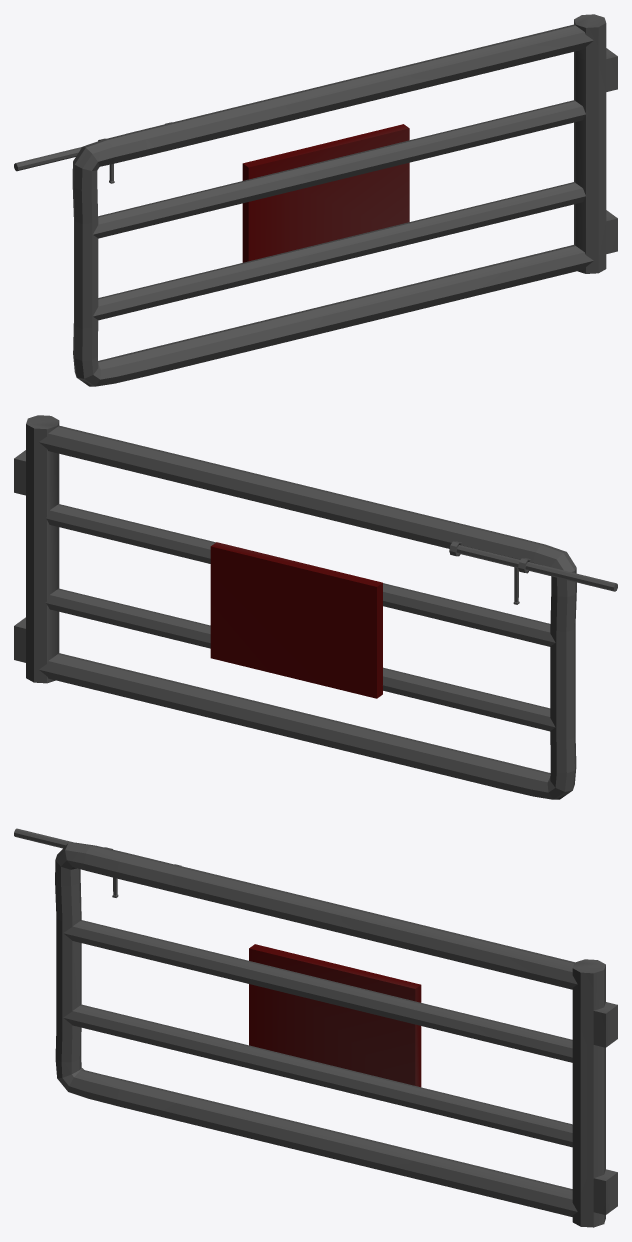
File: SM_GateOpen.fbx
The picture shows the model from 3 angles, top to bottom: view 1: azimuth 30°, elevation 25°; view 2: azimuth 150°, elevation 25°; view 3: azimuth 330°, elevation 25°; orthographic projection. The views are drawn at different scales.
Visible parts, largest first — view 1: GateOpen; view 2: GateOpen; view 3: GateOpen.
Part boxes in pixels (<box>): GateOpen: <box>14,14,617,386</box>; GateOpen: <box>14,415,617,799</box>; GateOpen: <box>14,828,617,1227</box>.
Size of the model in its own units: 193 by 77.22 by 12.32.
